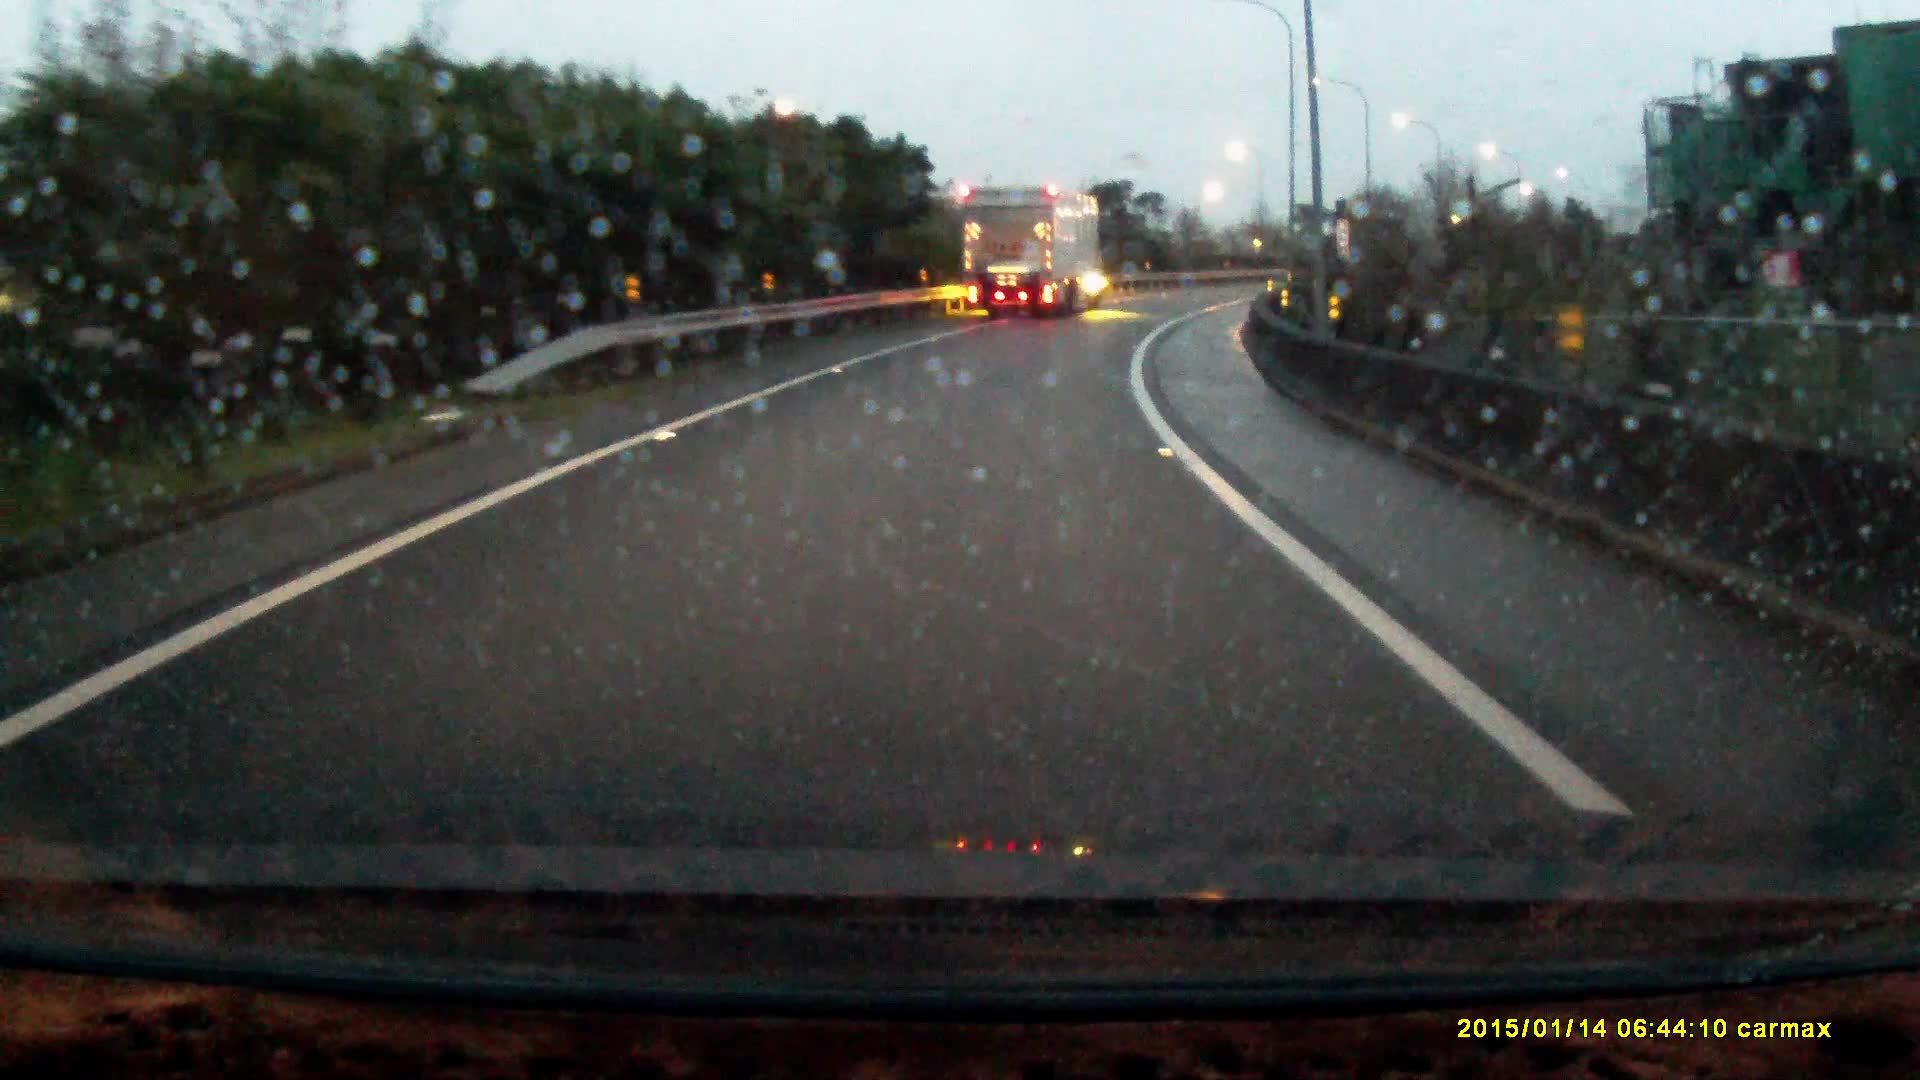vehicle: (953, 183, 1101, 322)
